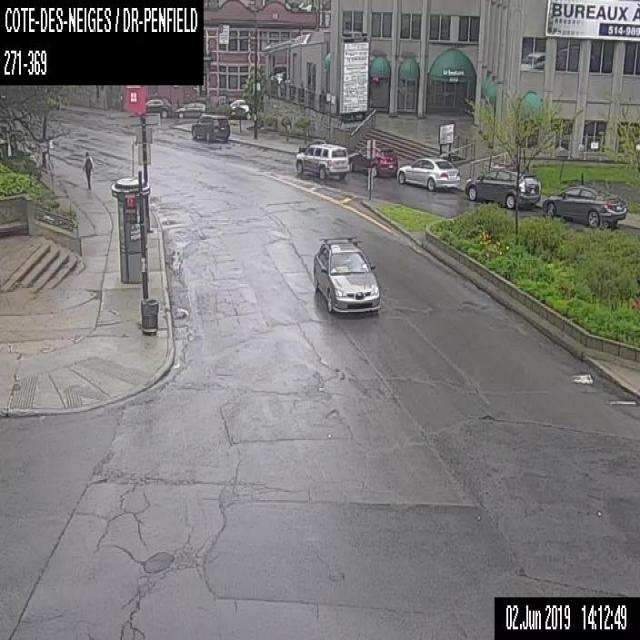pedestrian: (80, 150, 94, 190)
vehicle: (311, 234, 380, 318), (541, 183, 626, 229), (463, 165, 540, 208), (396, 156, 459, 193), (296, 142, 349, 178), (350, 145, 398, 176), (191, 113, 229, 141), (144, 94, 172, 118), (174, 101, 206, 116), (230, 98, 250, 119)
